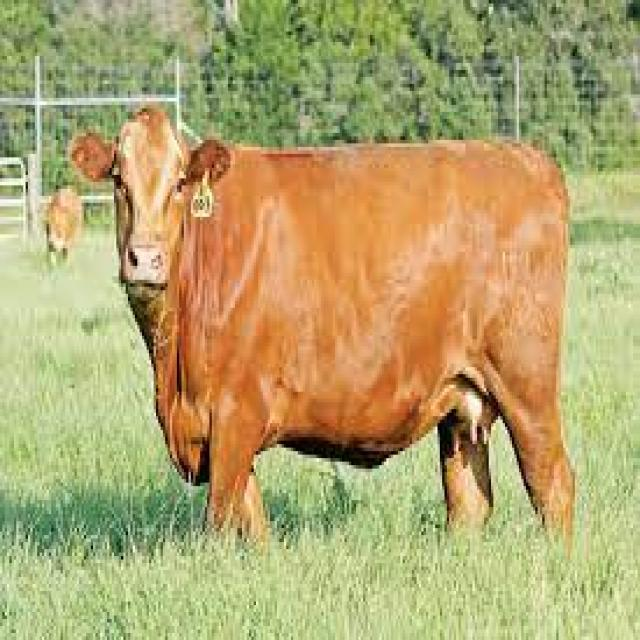cowFace: (60, 70, 254, 343)
